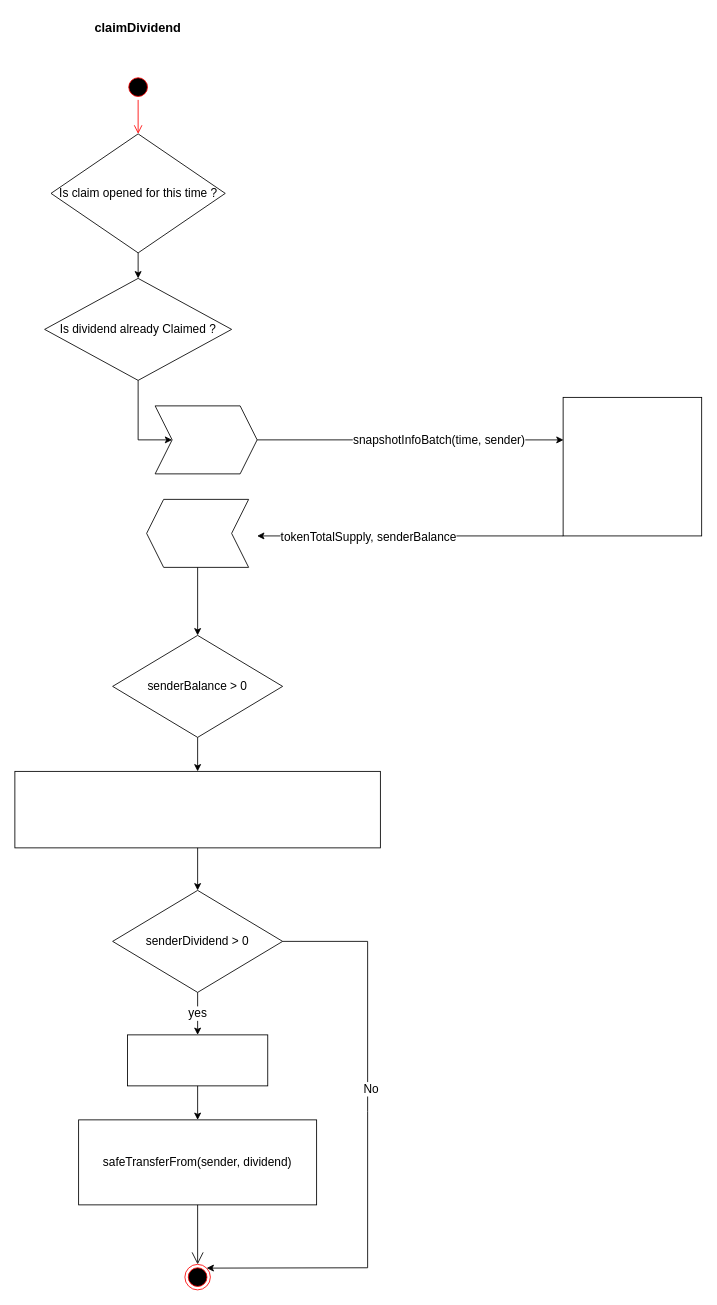
Some shapes in this 717 by 1305 pixel diagram are drawn without their labels. Each missing label, with the box of its shape:
claimedDividend[sender] = true Emit event: (127, 1034, 268, 1086)
CMTAT: (562, 397, 702, 536)
senderDividend = senderBalance * dividendTotalSupply / tokenTotalSupply: (14, 771, 380, 848)
